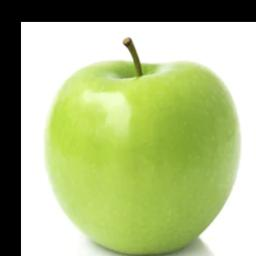Apple Fresh: (6, 30, 256, 256)
